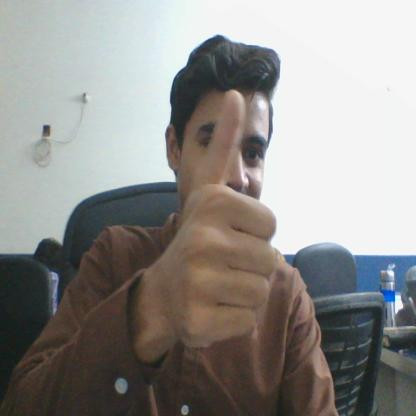thumbs-up: (173, 90, 288, 342)
